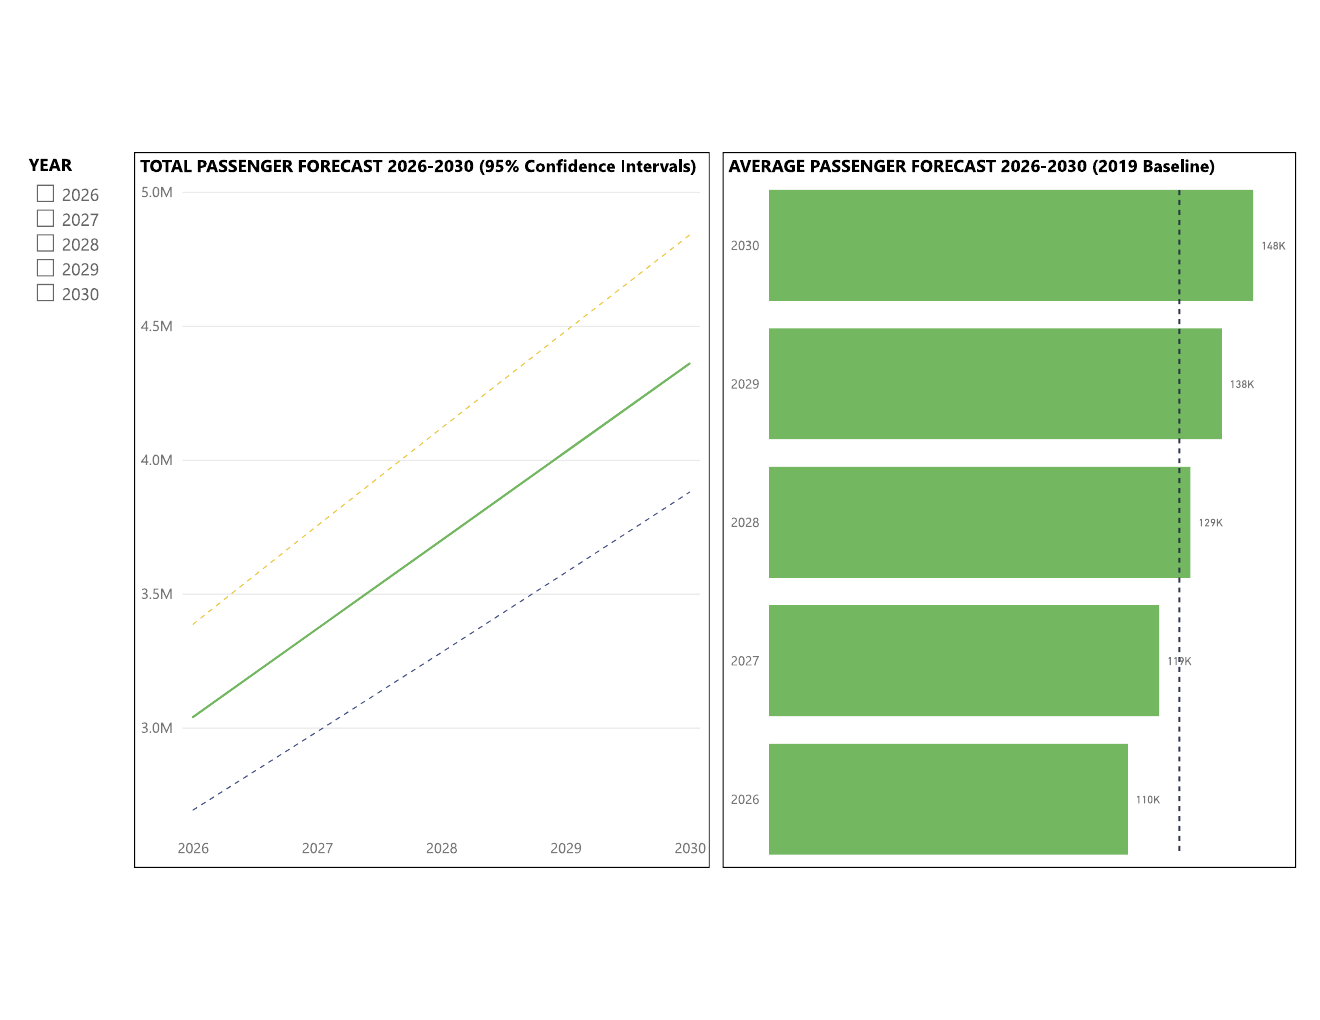

What the dashboard file says about the page in this screenshot:
{"tool":"powerbi","page":{"name":"Q1: Terminal Forecast 2026-2030","canvas":[1280,720],"ordinal":0},"visuals":[{"type":"lineChart","title":"TOTAL PASSENGER FORECAST 2026-2030 (95% Confidence Intervals)","fields":{"Y":["Sum(1_Annual_Passenger_Forecast.total_passengers_est)","Sum(1_Annual_Passenger_Forecast.lower_95ci)","Sum(1_Annual_Passenger_Forecast.upper_95ci)"],"Category":["1_Annual_Passenger_Forecast.year"]},"box":[111.1,0,579.1,720.4],"z":0},{"type":"clusteredBarChart","title":"AVERAGE PASSENGER FORECAST 2026-2030 (2019 Baseline)","fields":{"Category":["1_Annual_Passenger_Forecast.year"],"Y":["Sum(1_Annual_Passenger_Forecast.avg_period_passengers)"]},"box":[702.6,0,577.7,720.4],"z":2},{"type":"slicer","title":"YEAR","fields":{"Values":["4_Carrier_Passenger_Forecast.year"]},"box":[0,0,160.5,167.4],"z":3}]}

Visuals, with their boxes on the page's 1280x720 design canvas (x1, y1, x2, y2). These are canvas units, not pixel positions in the 1320x1020 screenshot, which may show the page scaled, cropped or inside an application window:
"TOTAL PASSENGER FORECAST 2026-2030 (95% Confidence Intervals)" lineChart: 111 0 690 720
"AVERAGE PASSENGER FORECAST 2026-2030 (2019 Baseline)" clusteredBarChart: 703 0 1280 720
"YEAR" slicer: 0 0 160 167
